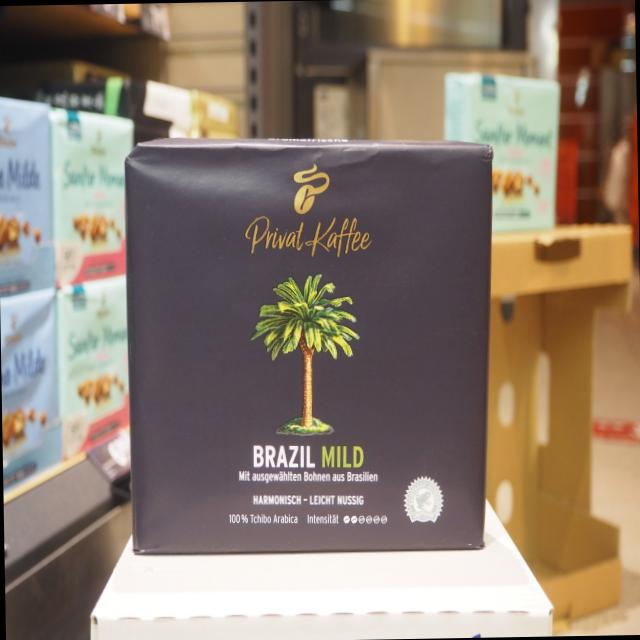BM Gemahlen: (117, 133, 497, 559)
